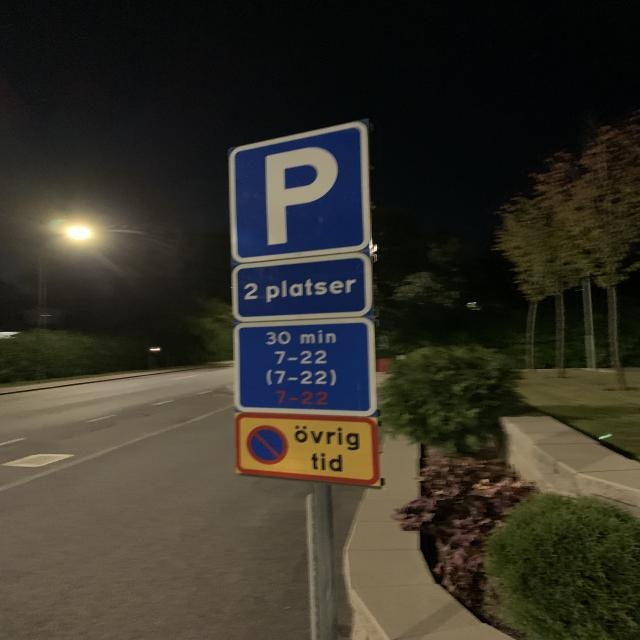P-skylt: (230, 119, 369, 264)
